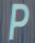Parking: (6, 1, 30, 40)
